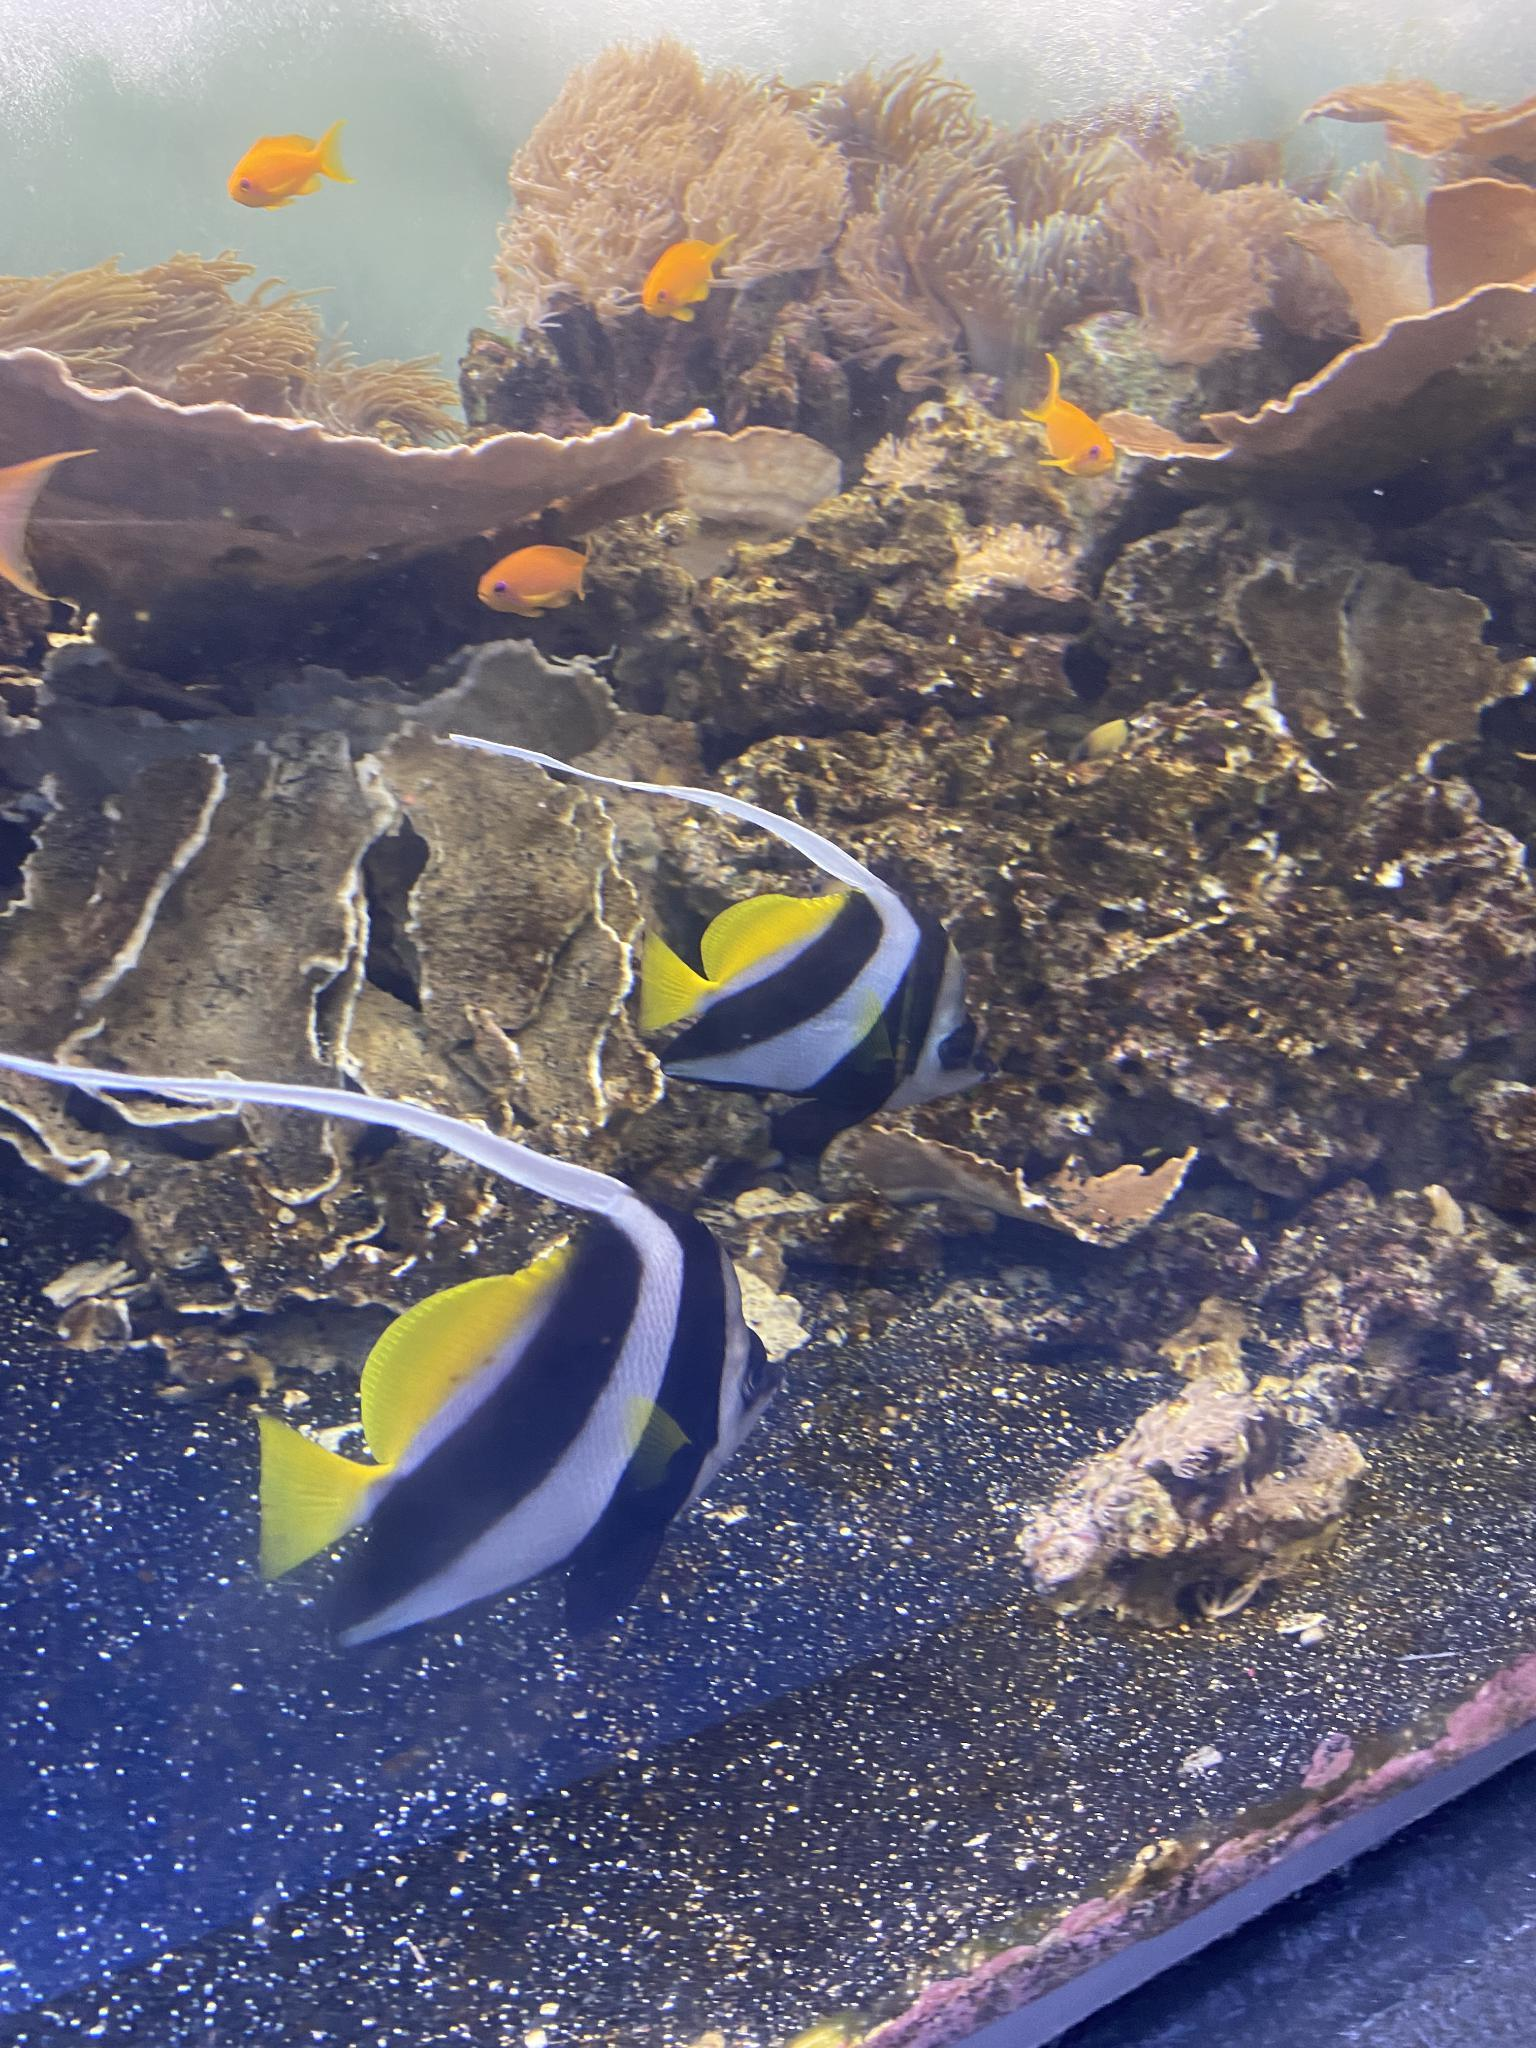fish: (142, 1071, 768, 1645), (613, 764, 1008, 1138), (465, 534, 592, 627), (211, 132, 349, 210), (1029, 381, 1125, 481), (620, 239, 716, 327)
